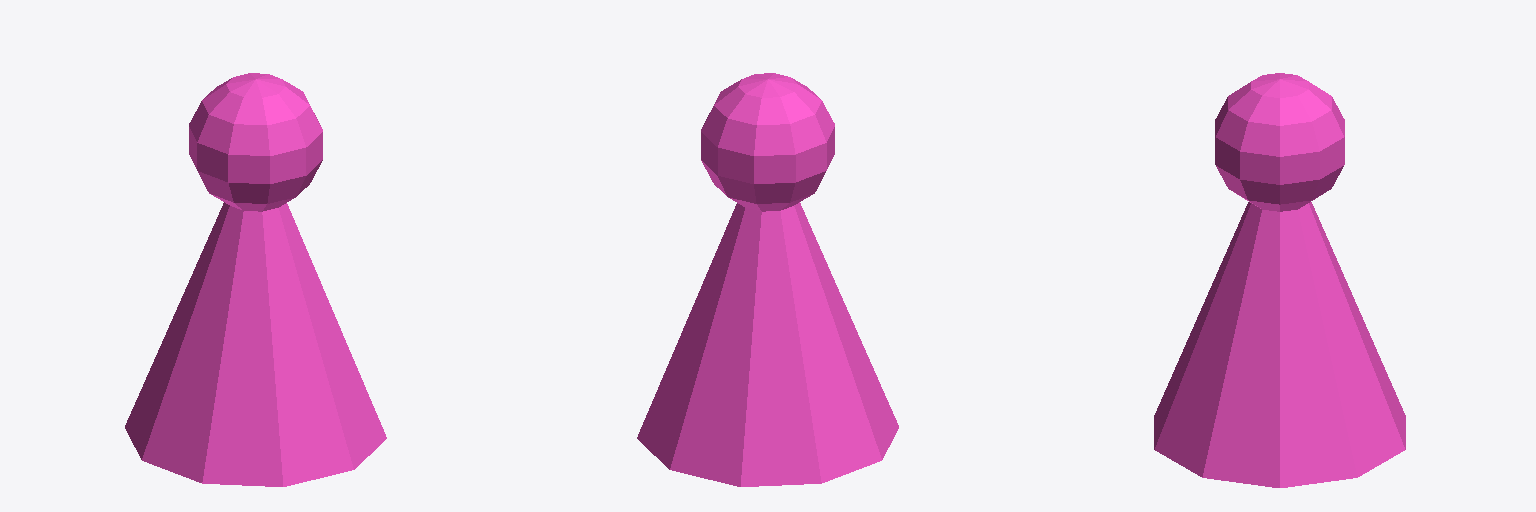
File: woman.obj
3 views of the same model, side by side, from view 1: azimuth 30°, elevation 25°; view 2: azimuth 150°, elevation 25°; view 3: azimuth 270°, elevation 25° (orthographic).
Parts seen in each view (by area): view 1: woman; view 2: woman; view 3: woman.
Boxes of the visible parts, x1,y1,x2,y2 form: woman: [125, 73, 386, 486]; woman: [637, 73, 898, 486]; woman: [1154, 73, 1405, 487].
Size of the model in its own units: 0.0954 by 0.1408 by 0.0907.